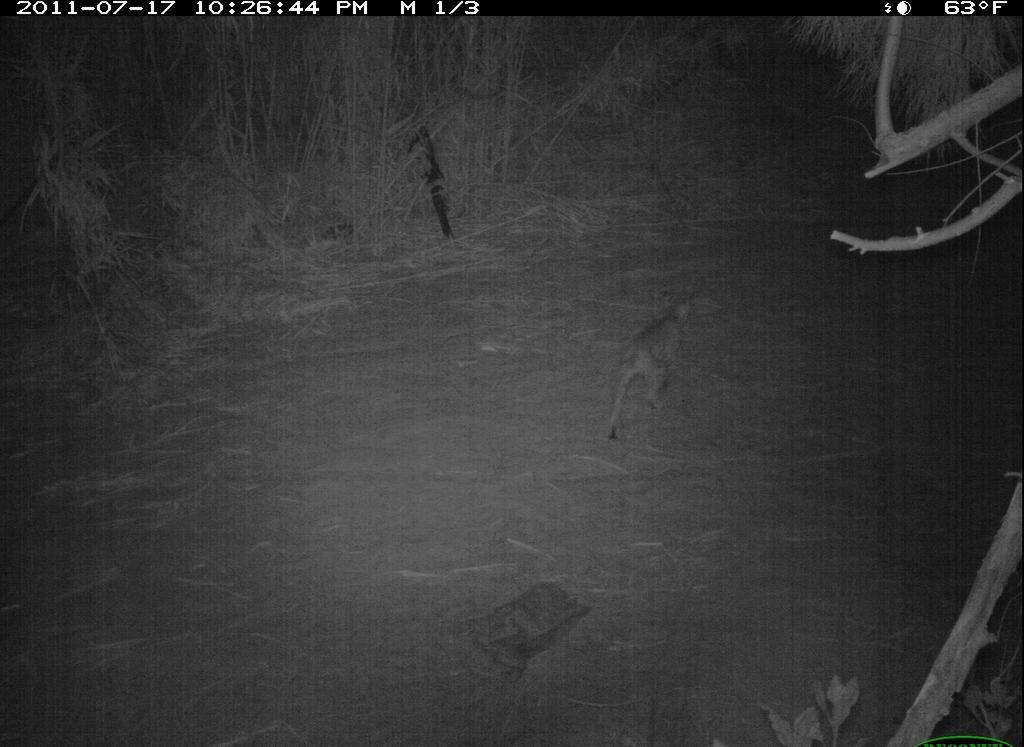bobcat: (598, 277, 715, 440)
